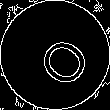O_NW: (22, 23, 88, 87)
